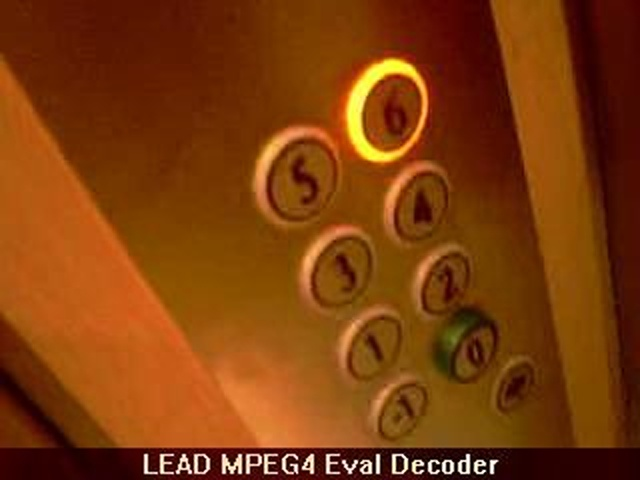-1: (363, 376, 431, 441)
0: (431, 306, 499, 384)
1: (331, 303, 406, 387)
2: (409, 241, 475, 326)
3: (296, 226, 378, 319)
4: (382, 159, 452, 248)
5: (251, 125, 341, 229)
6: (346, 58, 428, 163)
blur: (493, 354, 539, 414)
